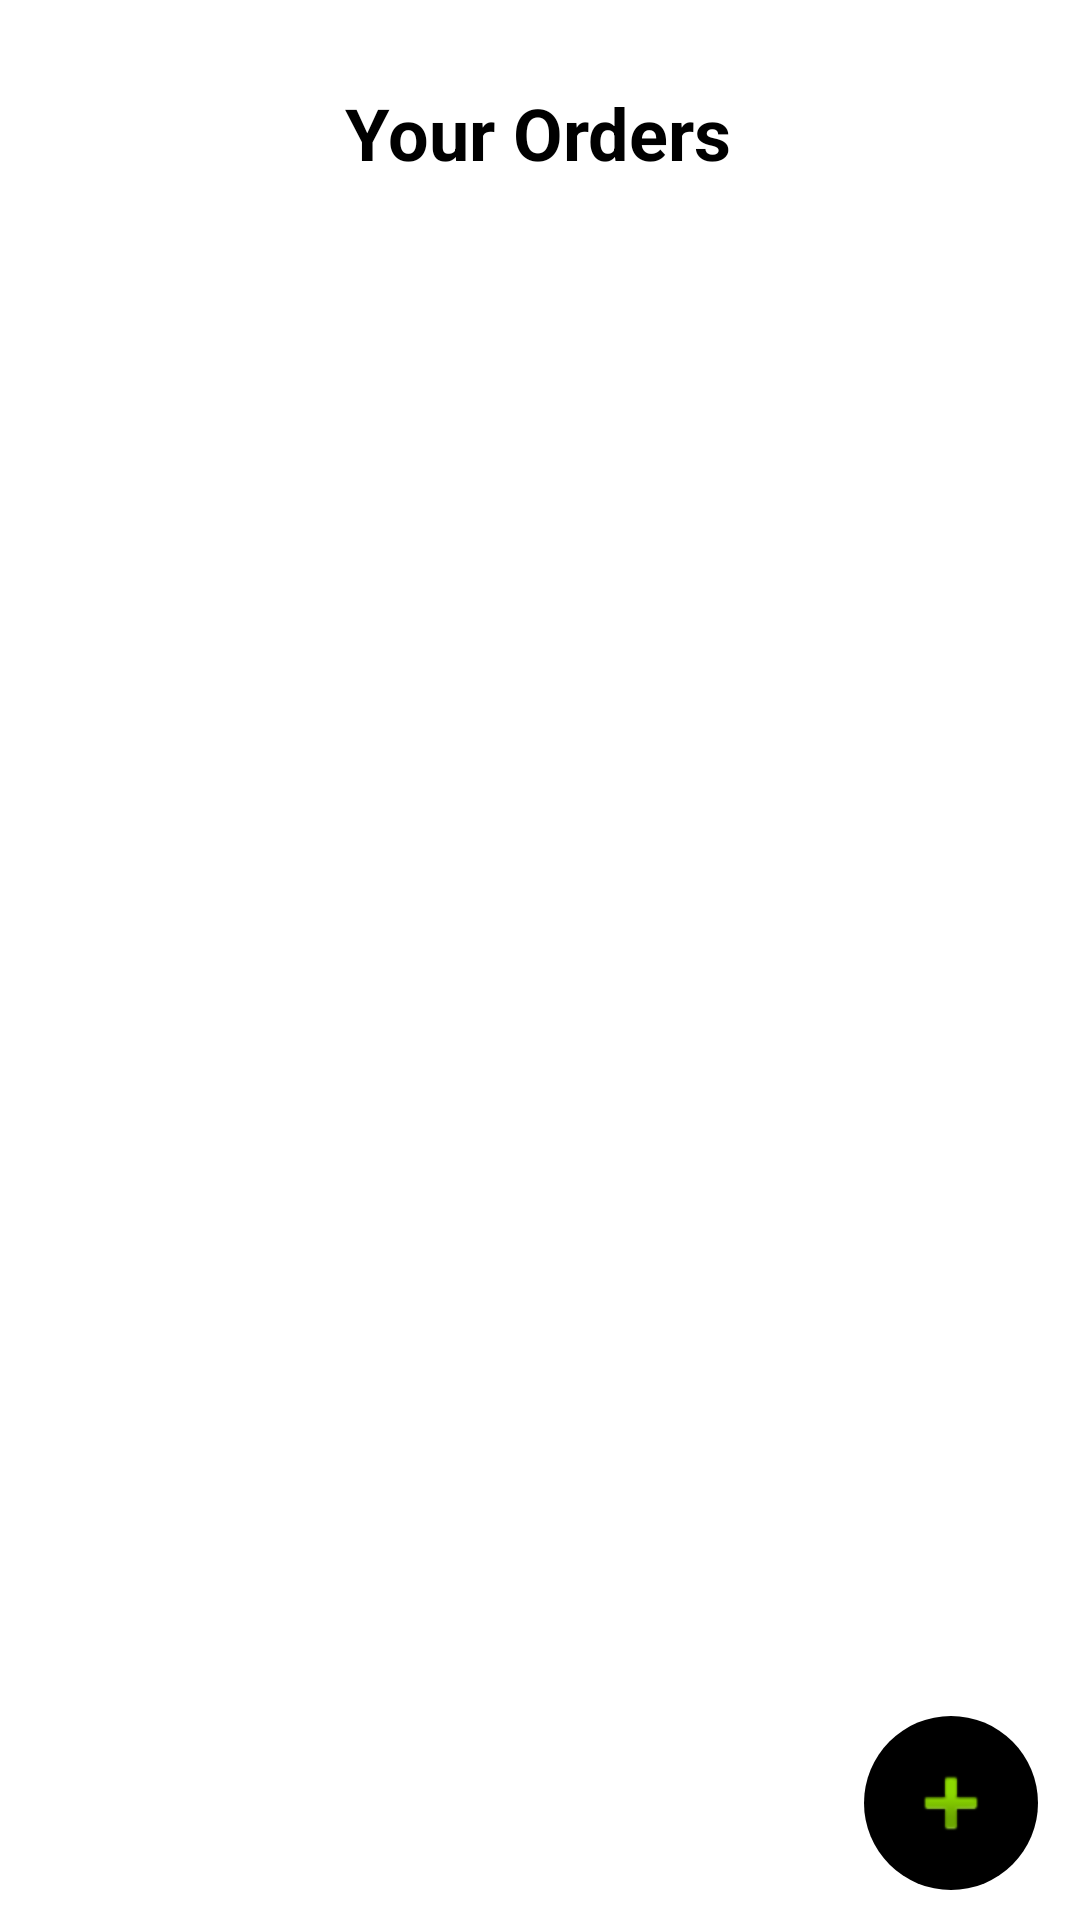

Icon bounding boxes for this 1080 × 1920 phone screenshot, format (x1, y1, x2, y2):
add: (864, 1716, 1038, 1890)
